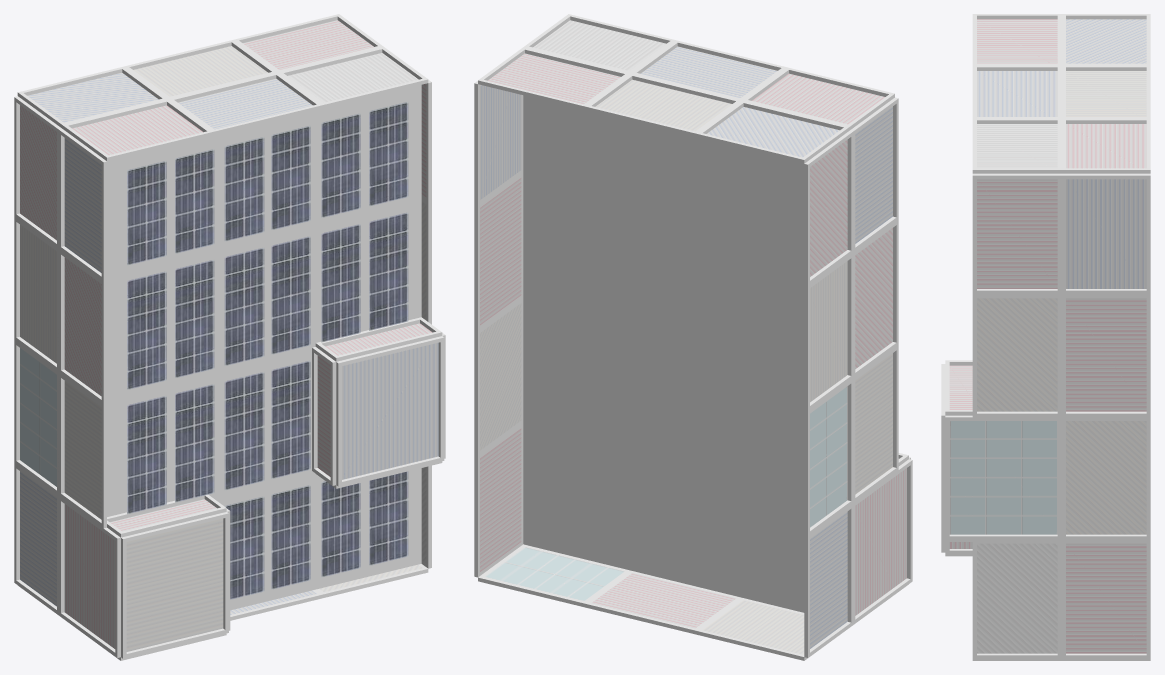
3 views of the same model, side by side, from view 1: azimuth 30°, elevation 25°; view 2: azimuth 150°, elevation 25°; view 3: azimuth 270°, elevation 25° (orthographic). The views are drawn at different scales.
Visible parts, largest first — view 1: 1.007, 平面.001, 底面, 1.001; view 2: 底面, 1.007, 1.001; view 3: 1.007, 1.001.
Boxes of the visible parts, x1,y1,x2,y2 form: 1.007: [20, 20, 438, 651]; 平面.001: [127, 101, 408, 599]; 底面: [107, 85, 421, 610]; 1.001: [14, 14, 445, 660]; 底面: [523, 95, 804, 612]; 1.007: [480, 20, 906, 654]; 1.001: [474, 14, 912, 660]; 1.007: [949, 19, 1146, 653]; 1.001: [941, 14, 1150, 660].
Bounding box in the file's own units: 27.6 × 39.6 × 15.3.
7 materials, 6 textured.
